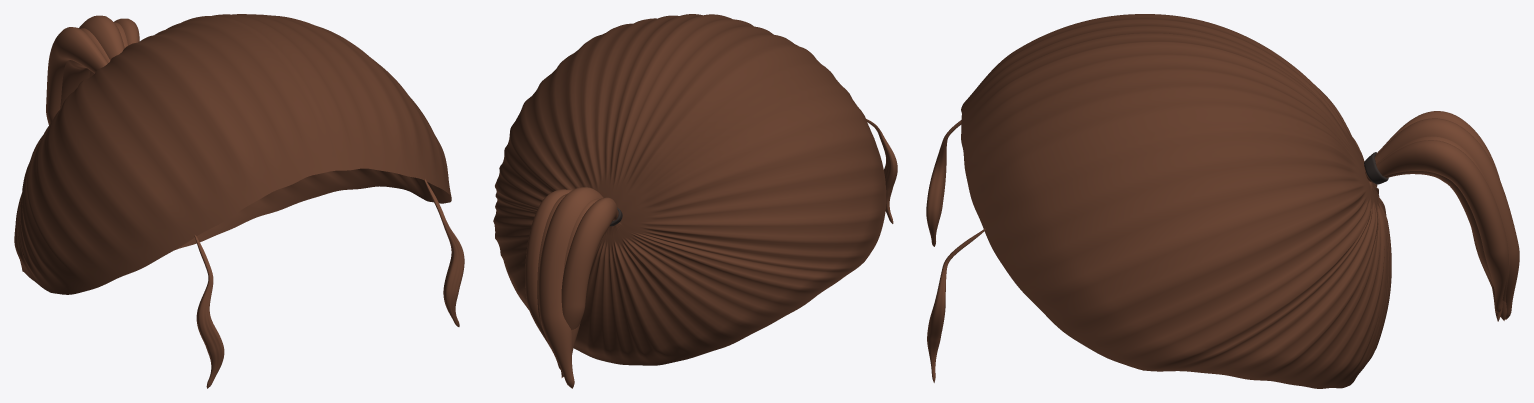
The model's file is ponytail-cap-default.glb.
3 views of the same model, side by side, from view 1: azimuth 30°, elevation 25°; view 2: azimuth 150°, elevation 25°; view 3: azimuth 270°, elevation 25° (orthographic). The views are drawn at different scales.
Visible parts, largest first — view 1: Hair / swept roots220, Hair / rounded tail220 0, Hair / adjustable front216 -1, Hair / adjustable front216 1, Hair / rounded tail220 2, Hair / rounded tail220 1, Hair / rounded tail220 4; view 2: Hair / swept roots220, Hair / rounded tail220 2, Hair / rounded tail220 0, Hair / rounded tail220 4, Hair / adjustable front216 -1, Hair / rounded tail220 1, Hair / rounded tail220 3; view 3: Hair / swept roots220, Hair / rounded tail220 4, Hair / rounded tail220 2, Hair / rounded tail220 3, Hair / adjustable front216 -1, Hair / adjustable front216 1, Hair / rounded tail220 0.
Boxes of the visible parts, x1=… form: Hair / swept roots220: x1=14, y1=14, x2=451, y2=294; Hair / rounded tail220 0: x1=46, y1=27, x2=107, y2=124; Hair / adjustable front216 -1: x1=194, y1=235, x2=224, y2=388; Hair / adjustable front216 1: x1=424, y1=179, x2=464, y2=326; Hair / rounded tail220 2: x1=79, y1=15, x2=124, y2=77; Hair / rounded tail220 1: x1=60, y1=28, x2=110, y2=108; Hair / rounded tail220 4: x1=114, y1=18, x2=139, y2=45; Hair / swept roots220: x1=493, y1=14, x2=886, y2=365; Hair / rounded tail220 2: x1=538, y1=187, x2=603, y2=388; Hair / rounded tail220 0: x1=560, y1=197, x2=618, y2=377; Hair / rounded tail220 4: x1=525, y1=189, x2=571, y2=369; Hair / adjustable front216 -1: x1=866, y1=119, x2=897, y2=223; Hair / rounded tail220 1: x1=563, y1=198, x2=599, y2=384; Hair / rounded tail220 3: x1=537, y1=193, x2=567, y2=328; Hair / swept roots220: x1=961, y1=14, x2=1391, y2=388; Hair / rounded tail220 4: x1=1365, y1=140, x2=1508, y2=312; Hair / rounded tail220 2: x1=1364, y1=118, x2=1519, y2=319; Hair / rounded tail220 3: x1=1365, y1=136, x2=1509, y2=301; Hair / adjustable front216 -1: x1=926, y1=120, x2=961, y2=246; Hair / adjustable front216 1: x1=927, y1=228, x2=985, y2=382; Hair / rounded tail220 0: x1=1376, y1=111, x2=1502, y2=321.
Size of the model in its own units: 0.779 by 0.5787 by 0.9439.
